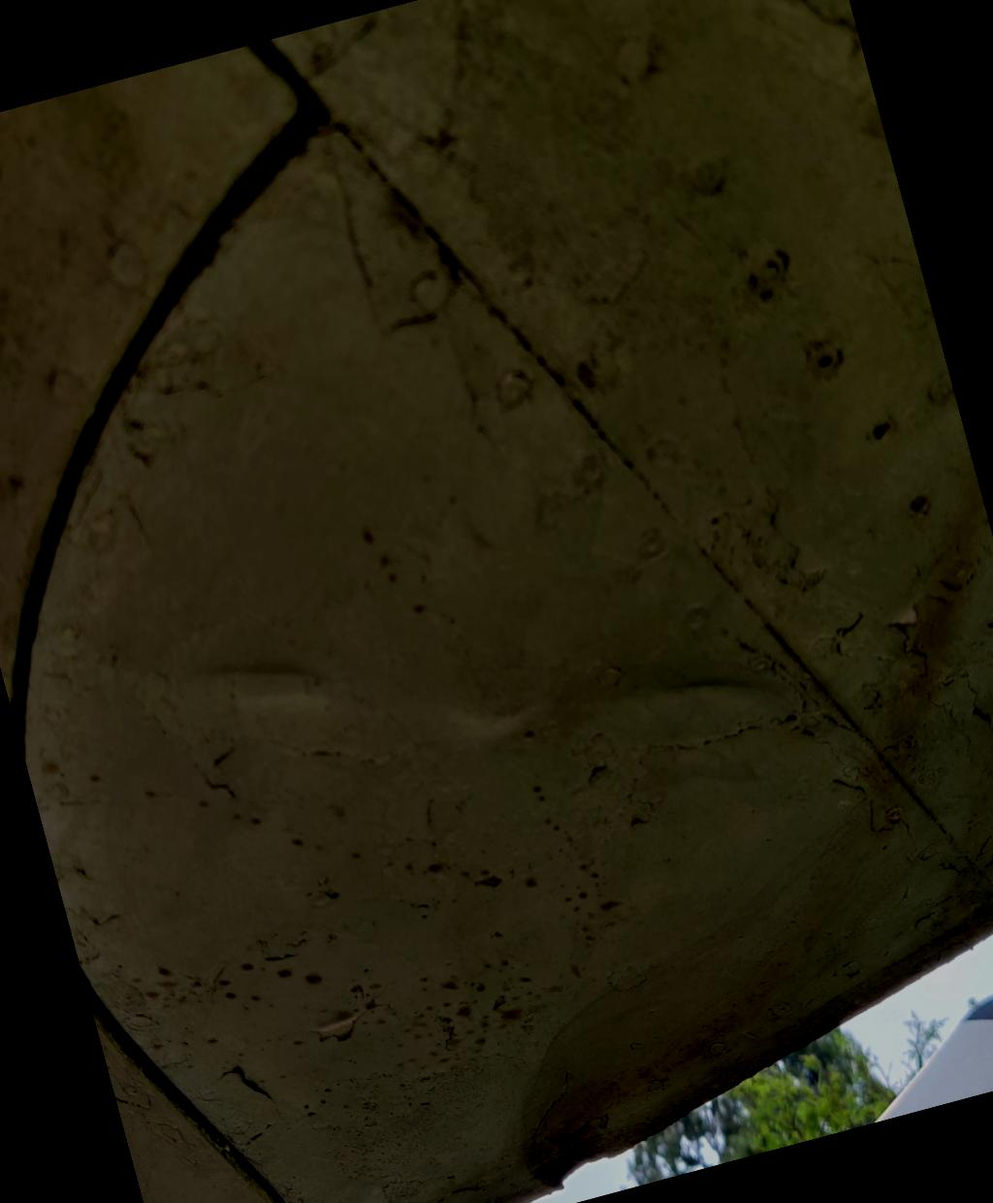dent: (582, 576, 824, 810), (146, 576, 385, 802)
